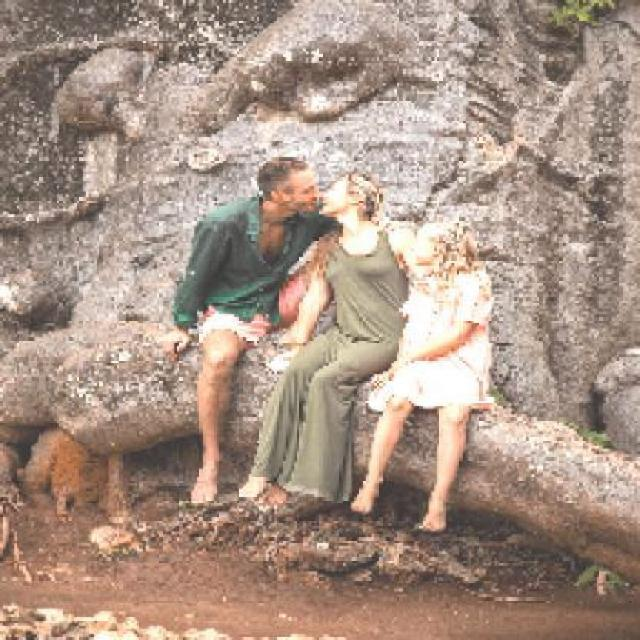child: (350, 224, 496, 533)
